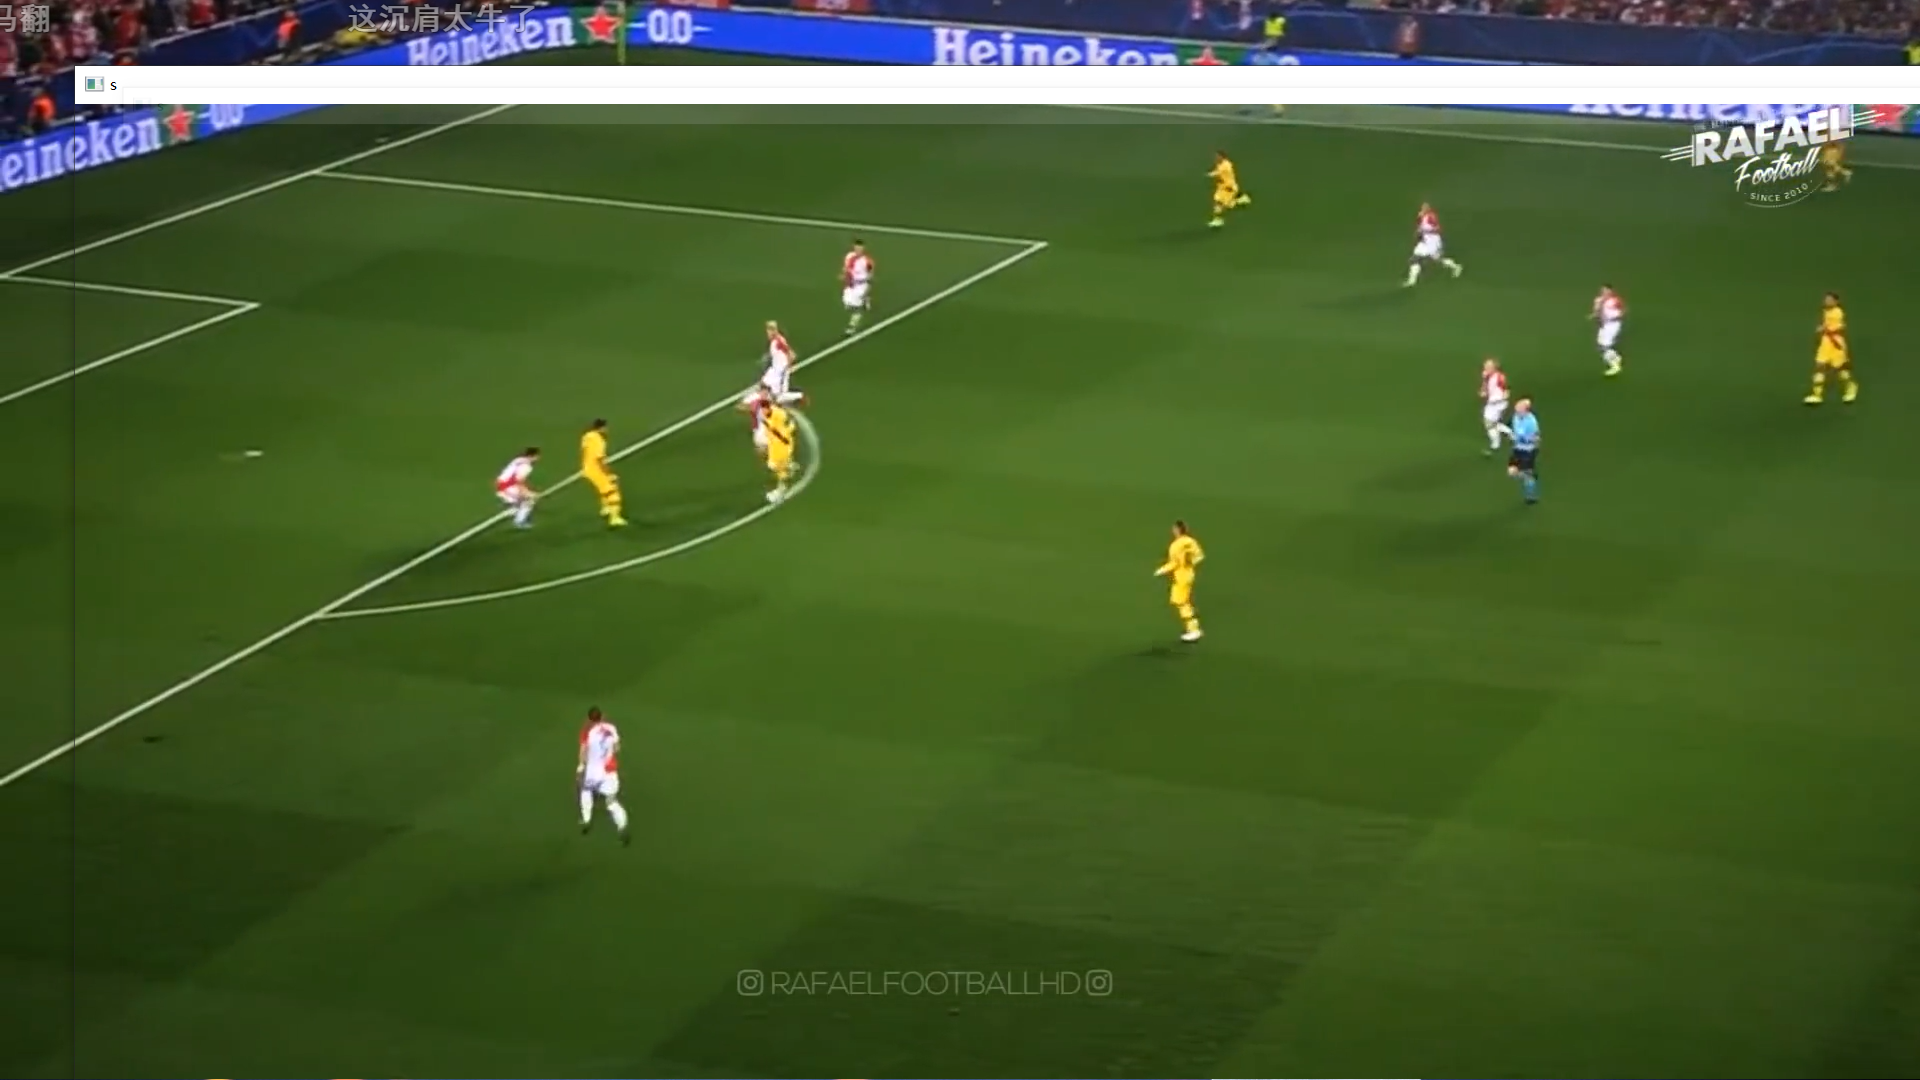ft: (765, 488, 786, 506)
